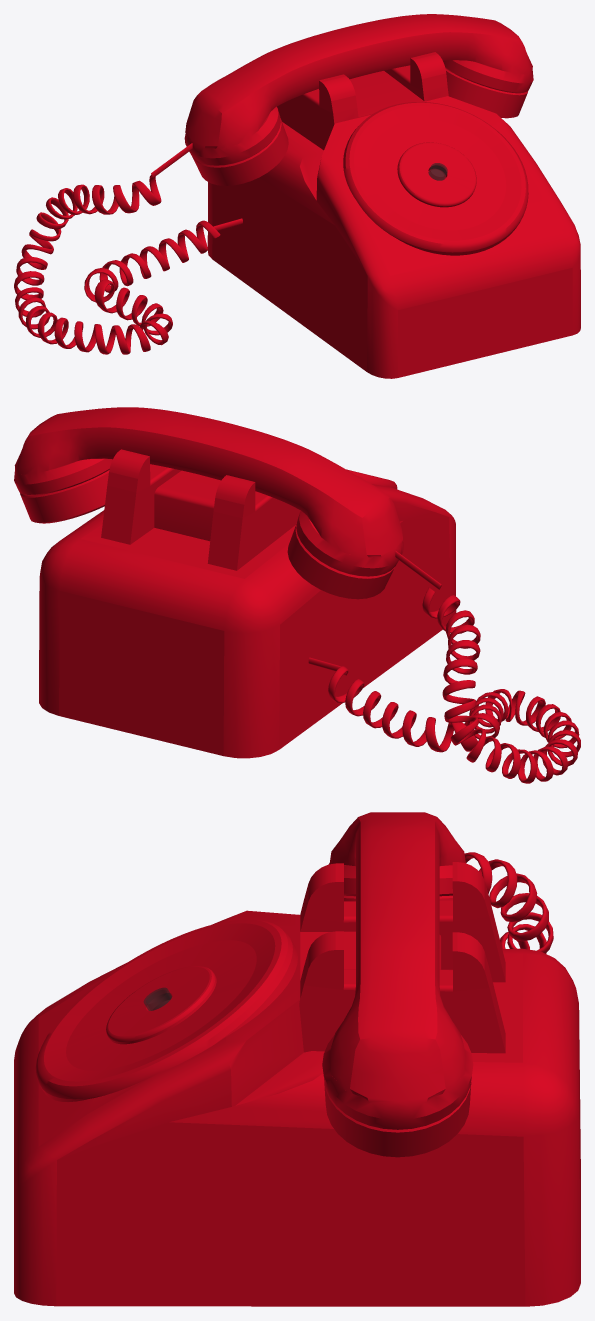
File: phone1.glb
The picture shows the model from 3 angles, top to bottom: view 1: azimuth 30°, elevation 25°; view 2: azimuth 150°, elevation 25°; view 3: azimuth 270°, elevation 25°; orthographic projection. The views are drawn at different scales.
Visible parts, largest first — view 1: Phone, Cube.004, BezierCircle; view 2: Phone, Cube.004, BezierCircle; view 3: Phone, Cube.004, BezierCircle.
Boxes of the visible parts, x1,y1,x2,y2 form: Phone: (207, 52, 580, 378); Cube.004: (184, 14, 533, 185); BezierCircle: (14, 175, 220, 354); Phone: (39, 449, 456, 758); Cube.004: (14, 407, 403, 599); BezierCircle: (328, 587, 580, 783); Phone: (14, 862, 580, 1306); Cube.004: (322, 812, 473, 1157); BezierCircle: (464, 852, 553, 953).
Bounding box in the file's own units: 11.17 × 5 × 7.29.
